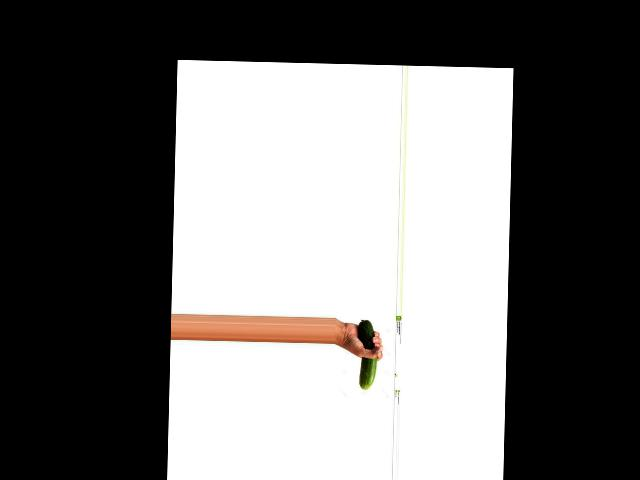cucumber: (357, 320, 378, 390)
